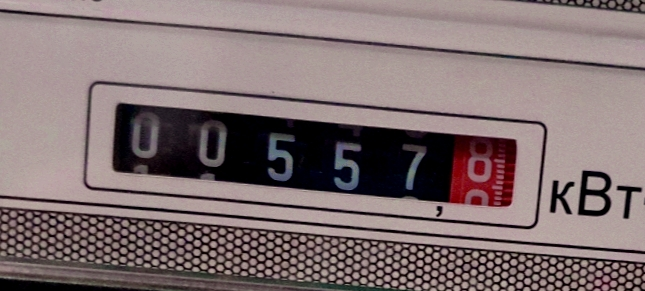0: (127, 105, 165, 164), (195, 116, 232, 170)
5: (328, 134, 369, 195), (262, 127, 300, 186)
7: (394, 138, 430, 195)
8: (466, 135, 497, 186)
screen: (78, 73, 554, 235)
